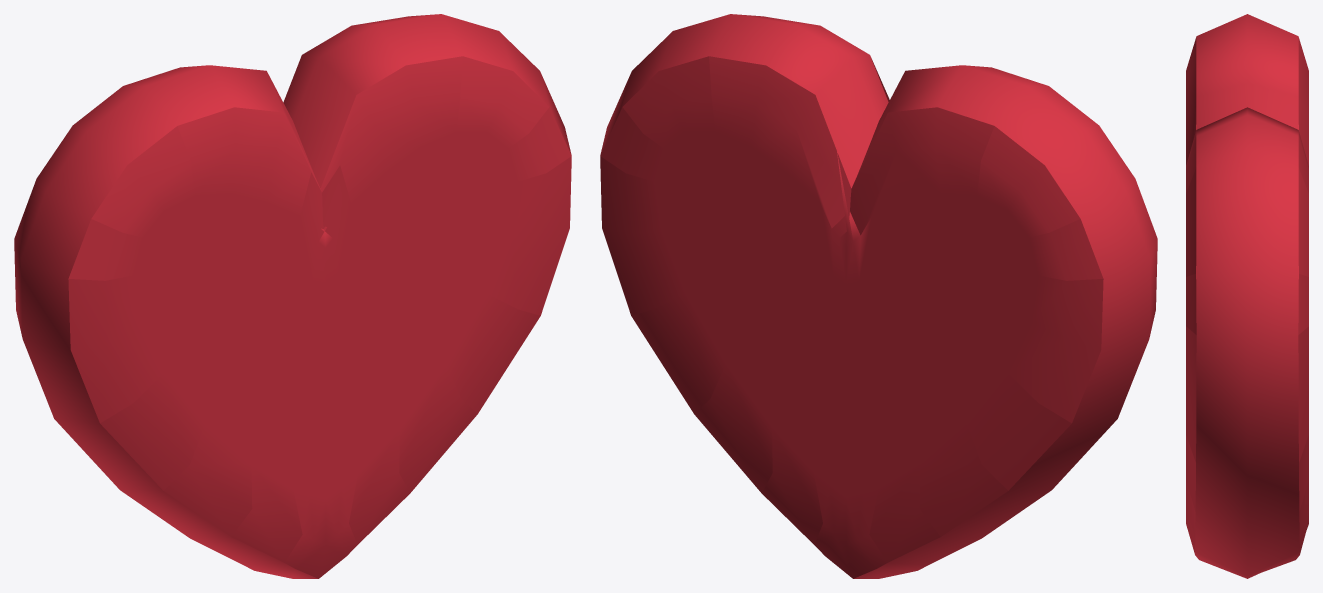
Rendered from heart_02.fbx.
3 renders of one model, left to right at view 1: azimuth 30°, elevation 25°; view 2: azimuth 150°, elevation 25°; view 3: azimuth 270°, elevation 25°, orthographic. The views are drawn at different scales.
Parts seen in each view (by area): view 1: heart; view 2: heart; view 3: heart.
Part boxes in pixels (bbox=[...]): heart: bbox=[14, 14, 571, 578]; heart: bbox=[600, 14, 1157, 578]; heart: bbox=[1186, 14, 1308, 578].
Bounding box in the file's own units: 2.07 × 1.94 × 0.4312.
